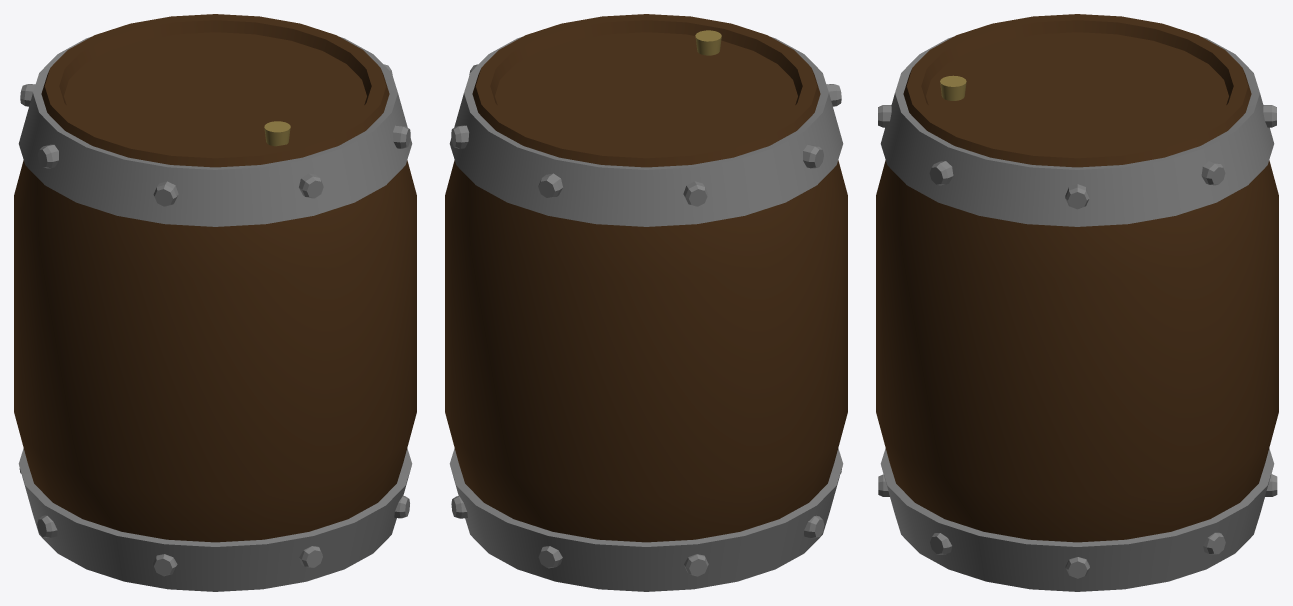
Rendered from barrel.fbx.
3 views of the same model, side by side, from view 1: azimuth 30°, elevation 25°; view 2: azimuth 150°, elevation 25°; view 3: azimuth 270°, elevation 25° (orthographic).
Visible parts, largest first — view 1: Barrel; view 2: Barrel; view 3: Barrel.
Boxes of the visible parts, x1=… form: Barrel: x1=14, y1=14, x2=416, y2=591; Barrel: x1=445, y1=14, x2=847, y2=591; Barrel: x1=876, y1=14, x2=1278, y2=591.
Bounding box in the file's own units: 57.15 × 57.15 × 68.57.
